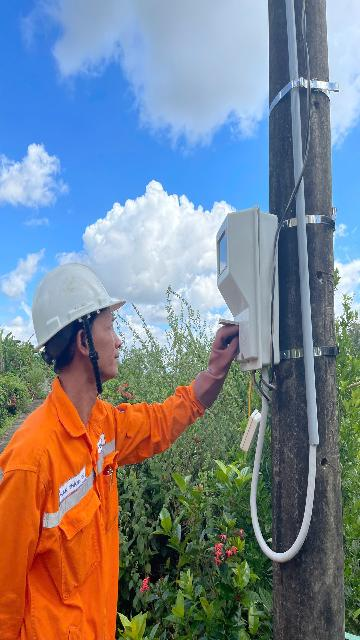helmet: (14, 261, 138, 357), (170, 303, 269, 417)
